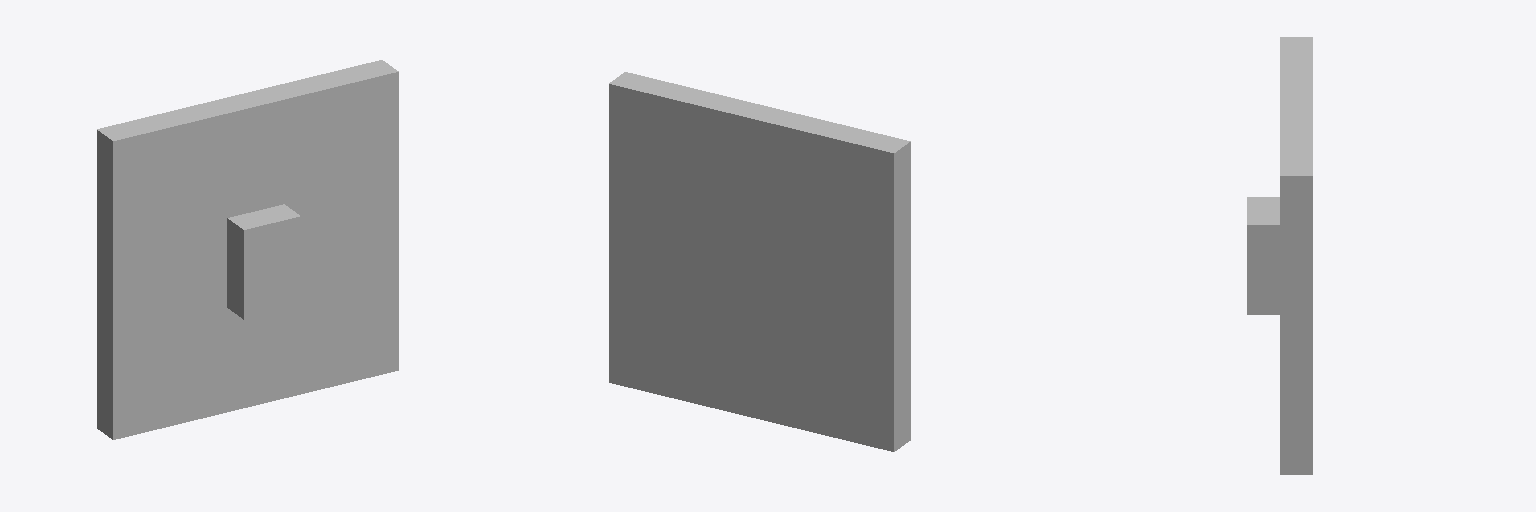
File: switch.obj
The picture shows the model from 3 angles: view 1: azimuth 30°, elevation 25°; view 2: azimuth 150°, elevation 25°; view 3: azimuth 270°, elevation 25°; orthographic projection.
Visible parts, largest first — view 1: switch; view 2: switch; view 3: switch.
Part boxes in pixels (x1,y1,x2,y2): switch: (97,60,398,439); switch: (609,72,910,451); switch: (1247,37,1312,474).
Size of the model in its own units: 20 by 20 by 4.